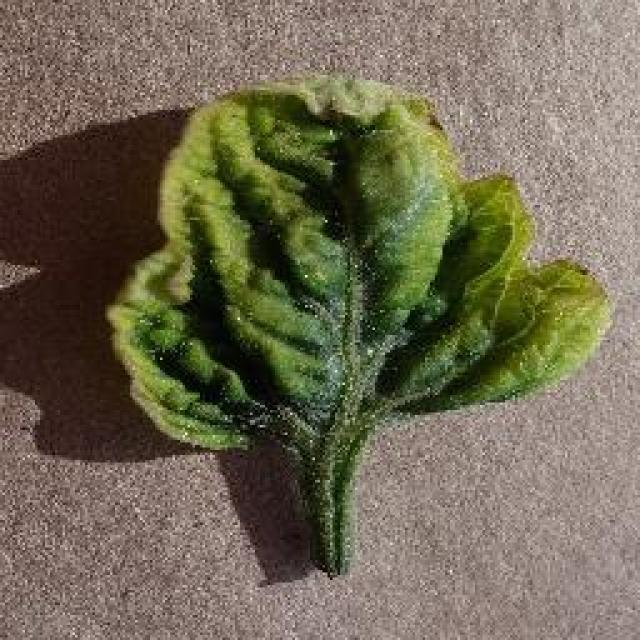Tomato yellow virus leaf: (108, 76, 612, 454)
